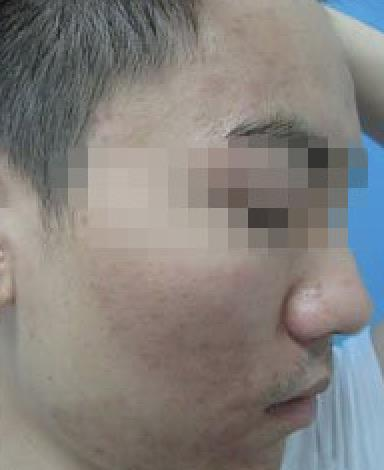fore: (105, 392, 134, 417), (80, 441, 108, 463), (226, 393, 251, 416)
